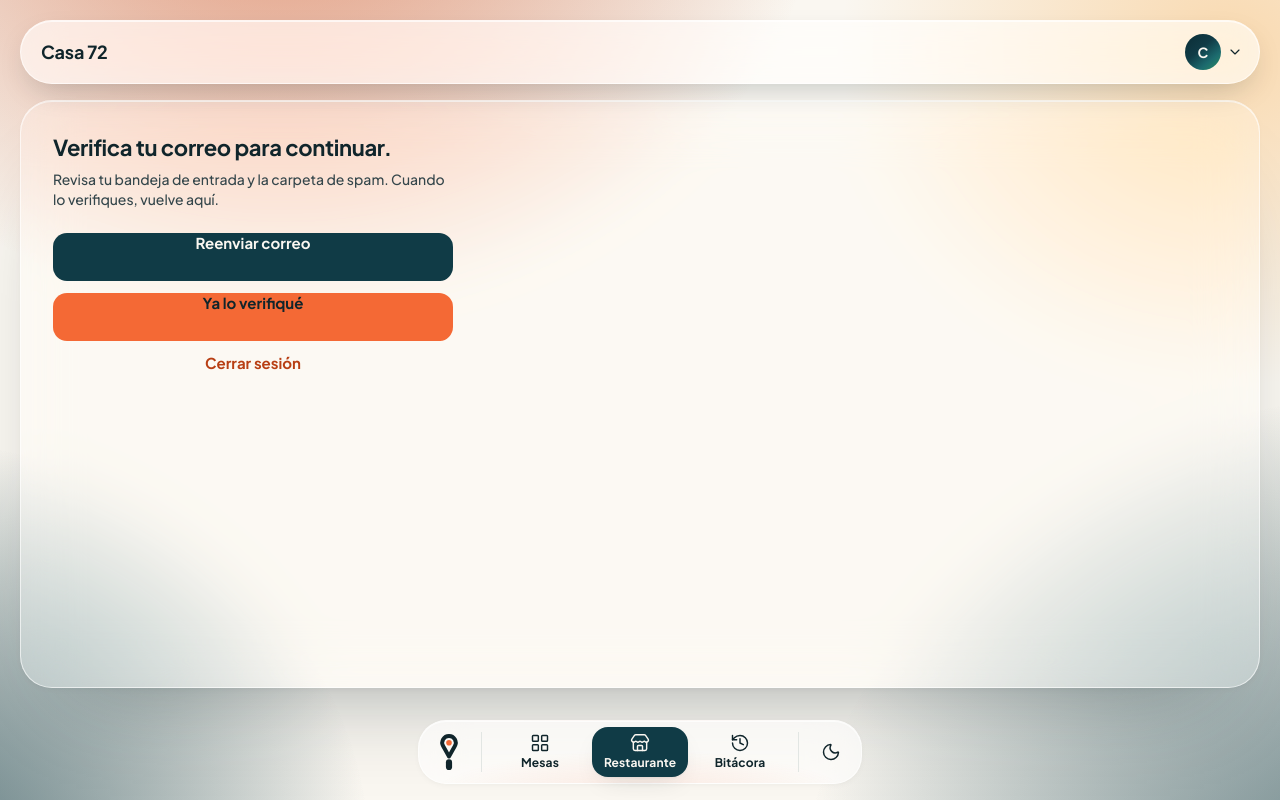
Test: authentication routes › shows a useful message when resend fails with auth/too-many-requests
Click the button "Reenviar correo": (253, 242) [53, 233, 453, 281]
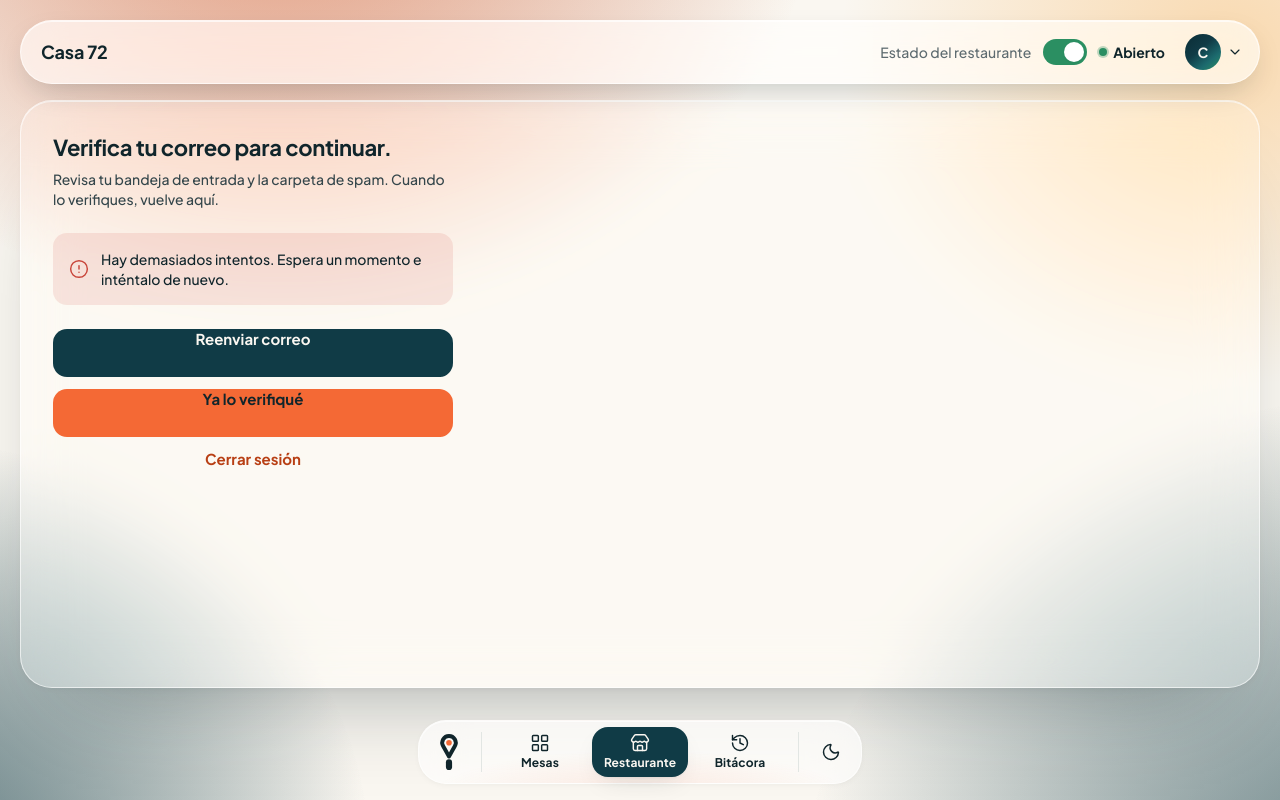
Expected: the message does not show "auth/too-many-requests", [53, 233, 453, 305]
Expected: the message reads "Hay demasiados intentos. Espera un momento e inténtalo de nuevo.", [101, 250, 422, 288]
